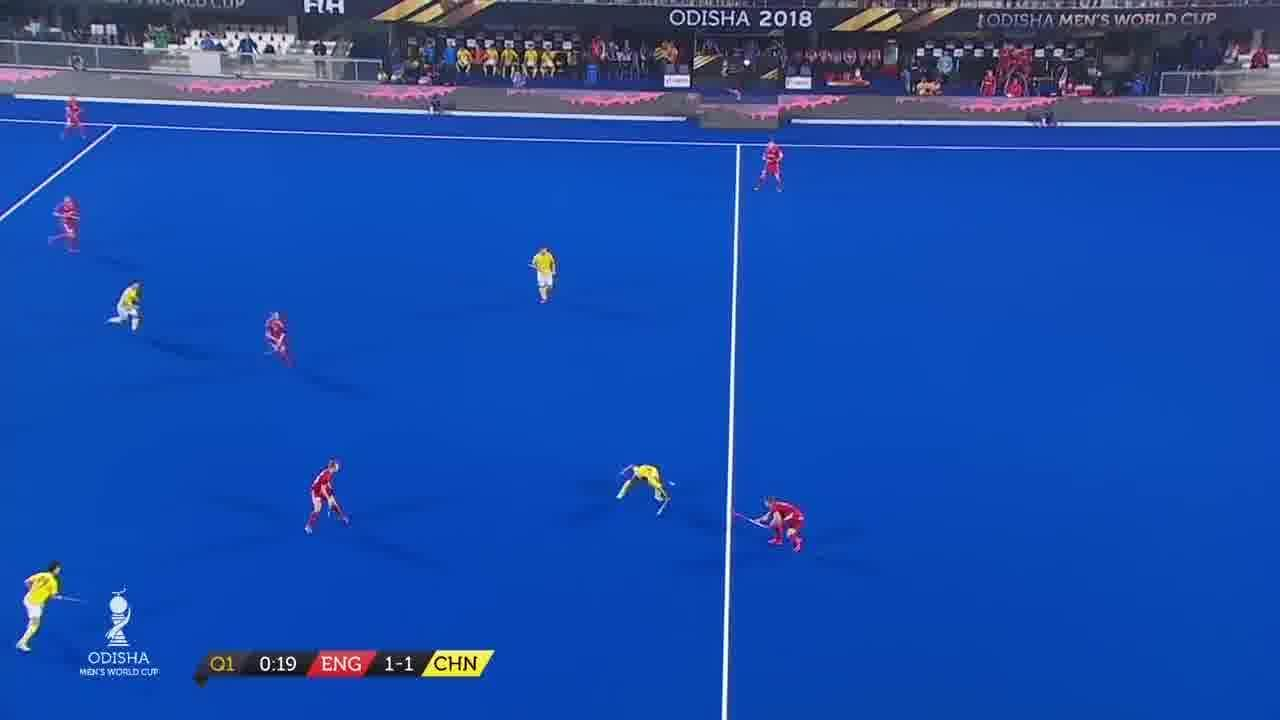ball: (664, 475, 679, 490)
